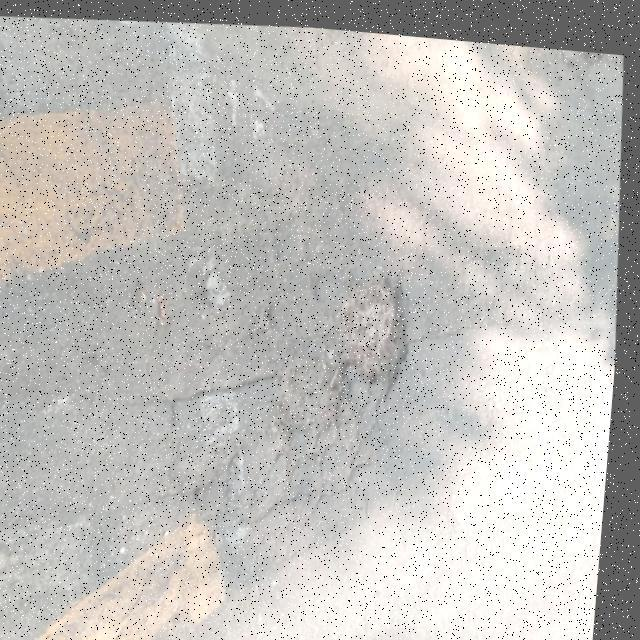pothole: (304, 242, 438, 412)
